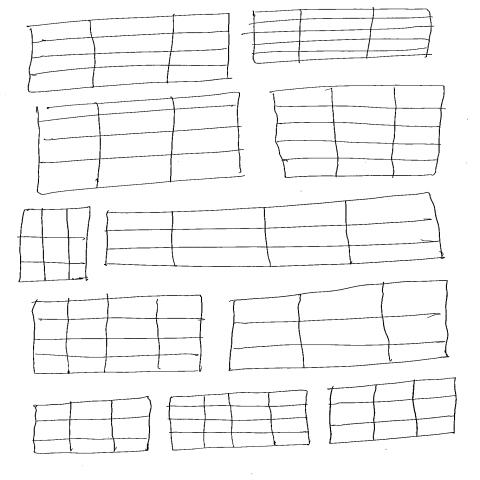Table: (114, 191, 445, 264), (35, 92, 245, 198), (228, 279, 452, 374), (271, 82, 450, 179), (26, 12, 232, 95), (30, 294, 204, 377), (251, 7, 435, 66), (168, 390, 313, 454), (327, 377, 461, 446), (31, 396, 155, 456), (16, 206, 94, 287)
